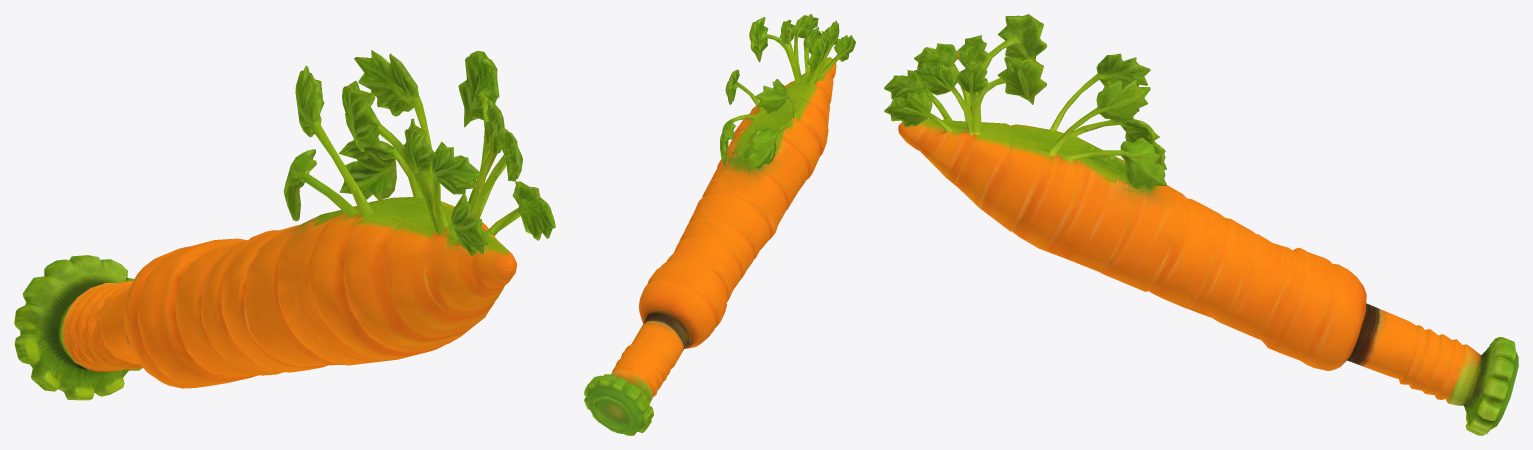
File: legendary_carrot.glb
3 renders of one model, left to right at view 1: azimuth 30°, elevation 25°; view 2: azimuth 150°, elevation 25°; view 3: azimuth 270°, elevation 25°, orthographic. The views are drawn at different scales.
Parts seen in each view (by area): view 1: Mesh1.0; view 2: Mesh1.0; view 3: Mesh1.0.
Part boxes in pixels (bbox=[...]): Mesh1.0: bbox=[14, 50, 555, 400]; Mesh1.0: bbox=[584, 14, 855, 435]; Mesh1.0: bbox=[884, 14, 1518, 435].
Bounding box in the file's own units: 0.3802 × 1.3 × 1.9.
Materials: 1 (1 with a texture image).
